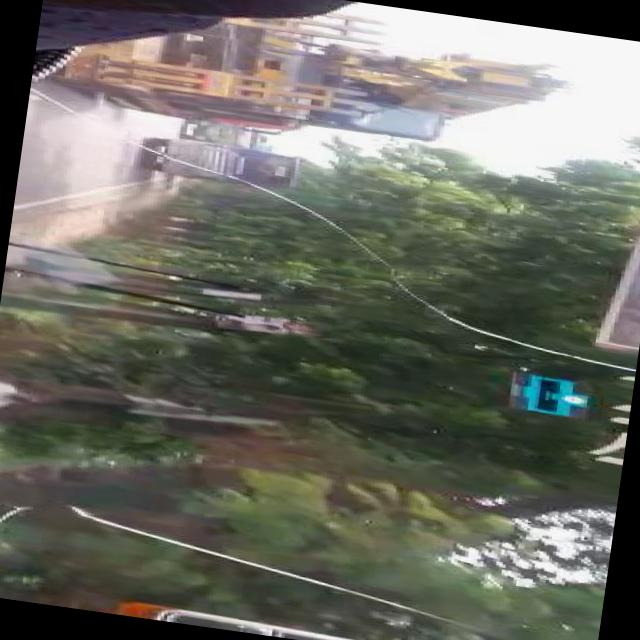bus: (144, 136, 302, 196)
truck: (53, 0, 511, 164), (182, 118, 270, 152)
